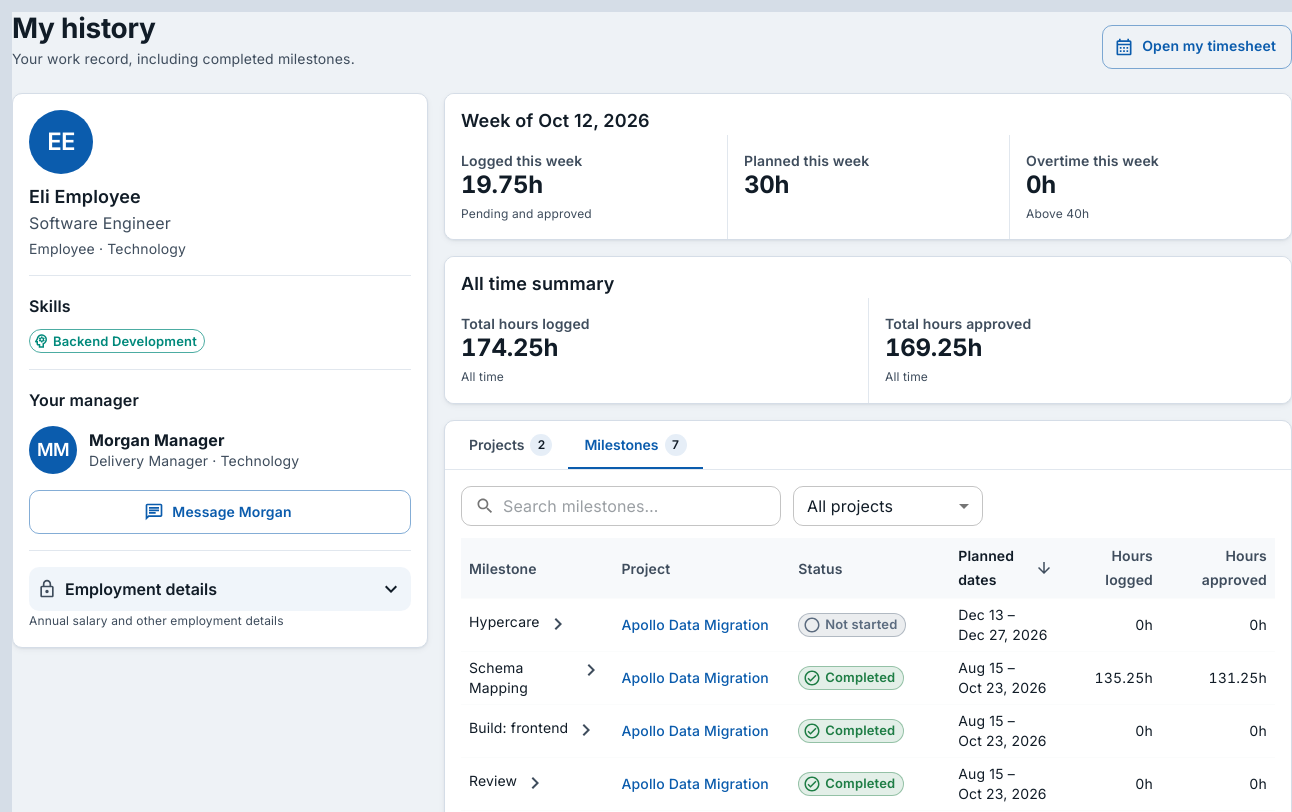
My history: an employee on their own page › the header, the profile card and Employment details
Expected: the heading "My history" is shown, [12,11,156,45]
Expected: the text "Your work record, including completed milestones." is shown, [12,49,355,69]
What coordinates should you click on to do the following:
click the button "Employment details"
I would click on:
 (220, 589)
Its box is [29,567,411,611].
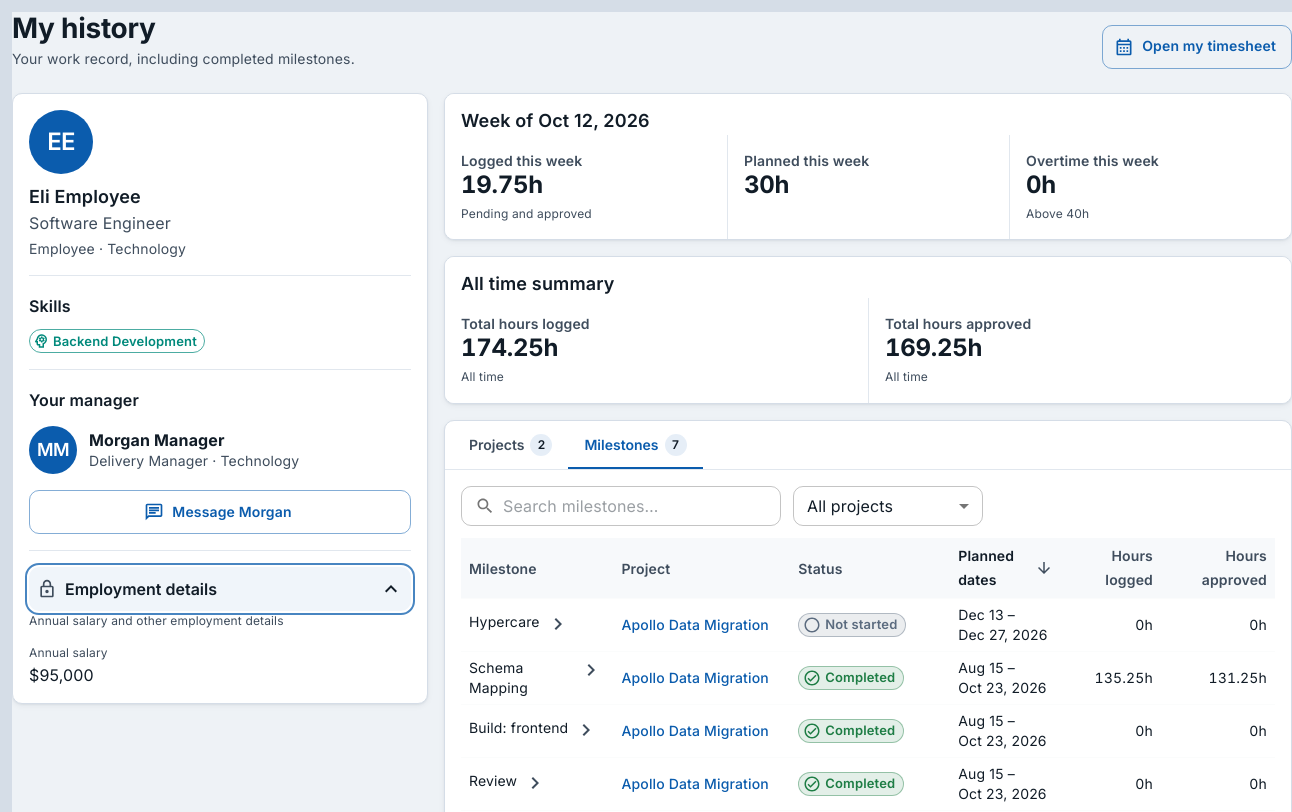
Now the text "Annual salary" is shown, box [29,645,108,660]
Now the text "$95,000" is shown, box [29,665,94,685]
